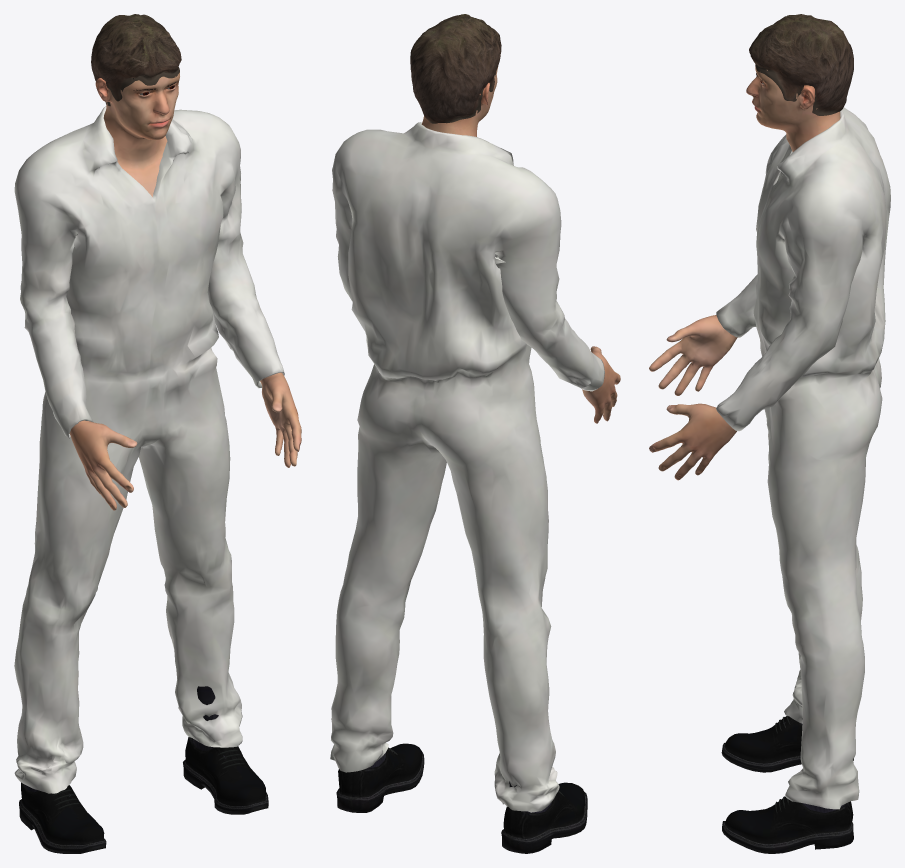
The model's file is socorro-figure.glb.
3 renders of one model, left to right at view 1: azimuth 30°, elevation 25°; view 2: azimuth 150°, elevation 25°; view 3: azimuth 270°, elevation 25°, orthographic.
Parts seen in each view (by area): view 1: Human.male_coverall01.001, Human.001, Human.shoes03.001, Human.short02.001; view 2: Human.male_coverall01.001, Human.short02.001, Human.shoes03.001, Human.001; view 3: Human.male_coverall01.001, Human.001, Human.shoes03.001, Human.short02.001.
Boxes of the visible parts, left/top/right/bottom form: Human.male_coverall01.001: left=14, top=106, right=284, bottom=793; Human.001: left=69, top=72, right=301, bottom=510; Human.shoes03.001: left=19, top=686, right=268, bottom=853; Human.short02.001: left=91, top=14, right=181, bottom=106; Human.male_coverall01.001: left=330, top=122, right=604, bottom=812; Human.short02.001: left=410, top=14, right=501, bottom=123; Human.shoes03.001: left=336, top=743, right=587, bottom=853; Human.001: left=421, top=66, right=620, bottom=423; Human.male_coverall01.001: left=716, top=107, right=890, bottom=809; Human.001: left=649, top=64, right=840, bottom=480; Human.shoes03.001: left=721, top=716, right=853, bottom=853; Human.short02.001: left=749, top=14, right=853, bottom=115.
Bounding box in the file's own units: 0.2976 × 1 × 0.2805.
Materials: 6 (6 with a texture image).
